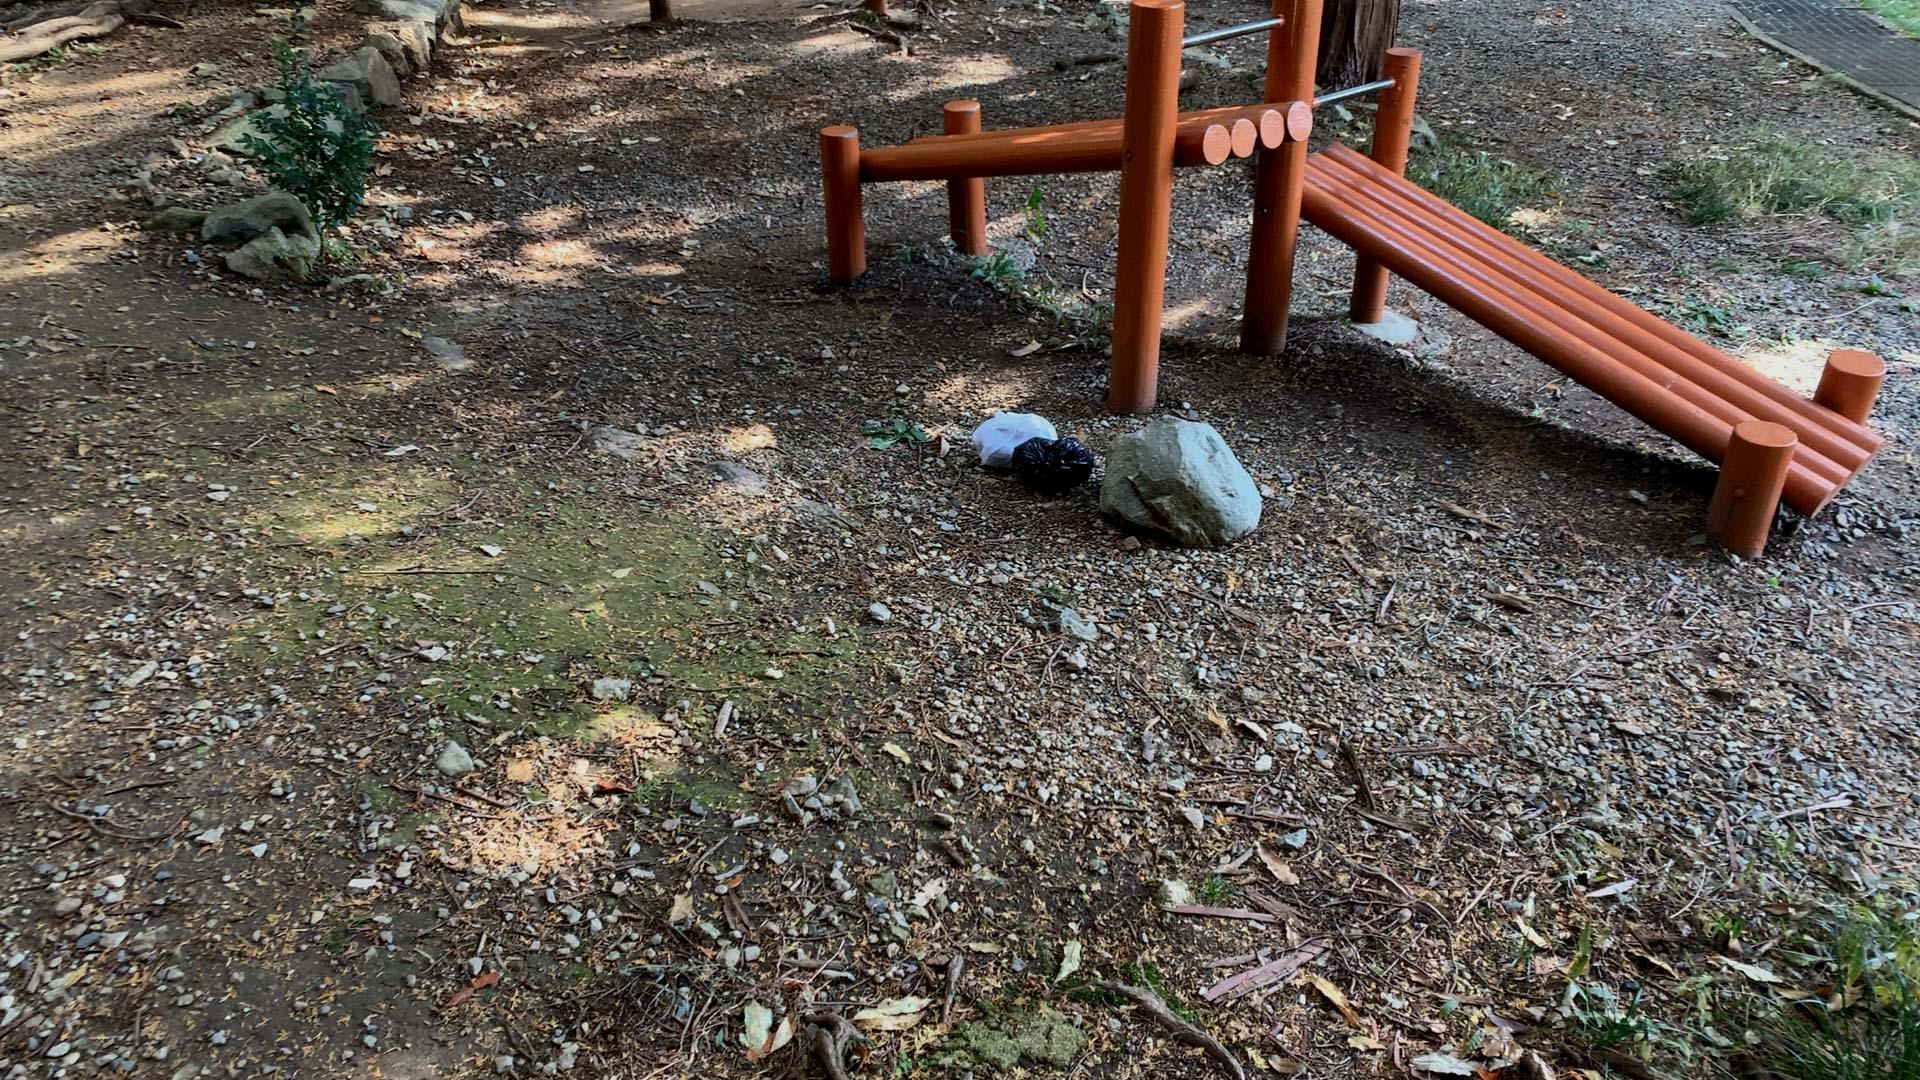black_bag: (1011, 434, 1095, 491)
white_bag: (967, 405, 1060, 469)
